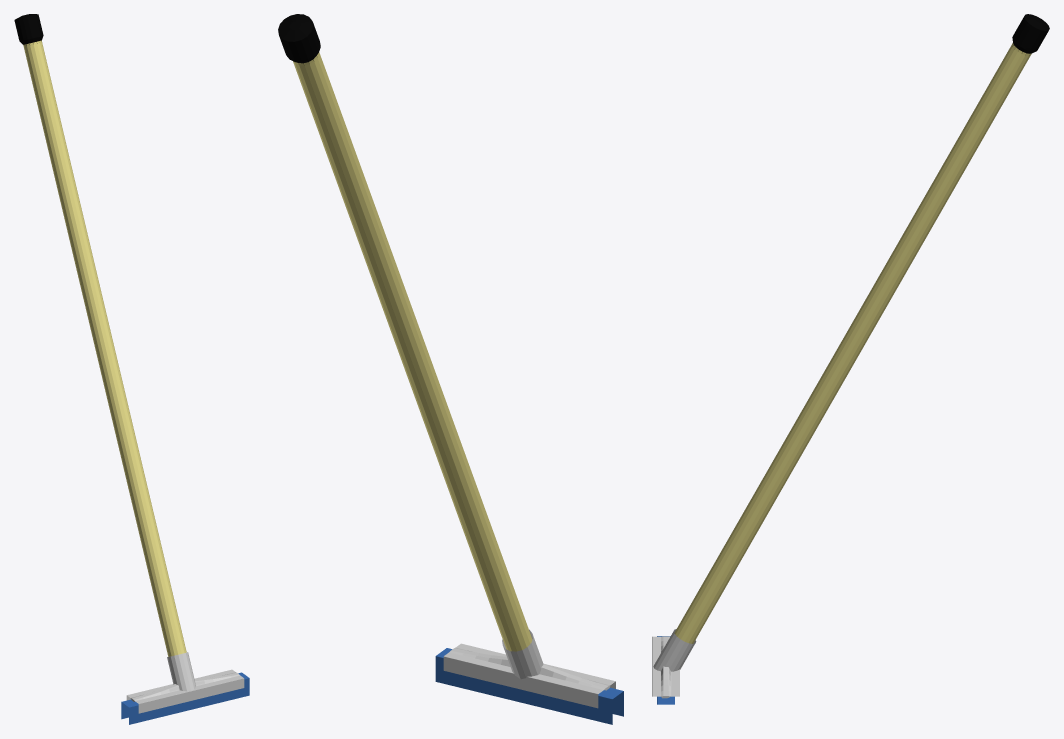
The model's file is Rodo.fbx.
The picture shows the model from 3 angles, left to right: view 1: azimuth 30°, elevation 25°; view 2: azimuth 150°, elevation 25°; view 3: azimuth 270°, elevation 25°; orthographic projection. The views are drawn at different scales.
Visible parts, largest first — view 1: Cylinder; view 2: Cylinder; view 3: Cylinder.
Part boxes in pixels (<box>): Cylinder: <box>14,14,249,724</box>; Cylinder: <box>278,14,623,724</box>; Cylinder: <box>652,14,1049,704</box>.
Size of the model in its own units: 236 by 1084 by 580.
